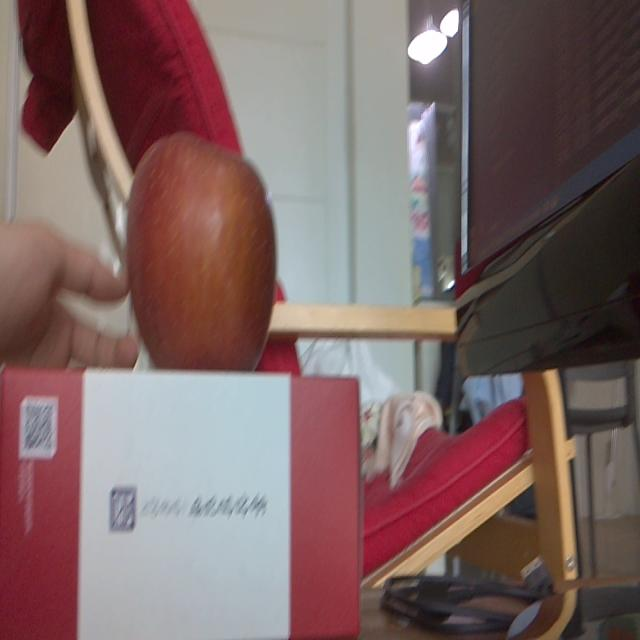apple: (126, 132, 276, 370)
